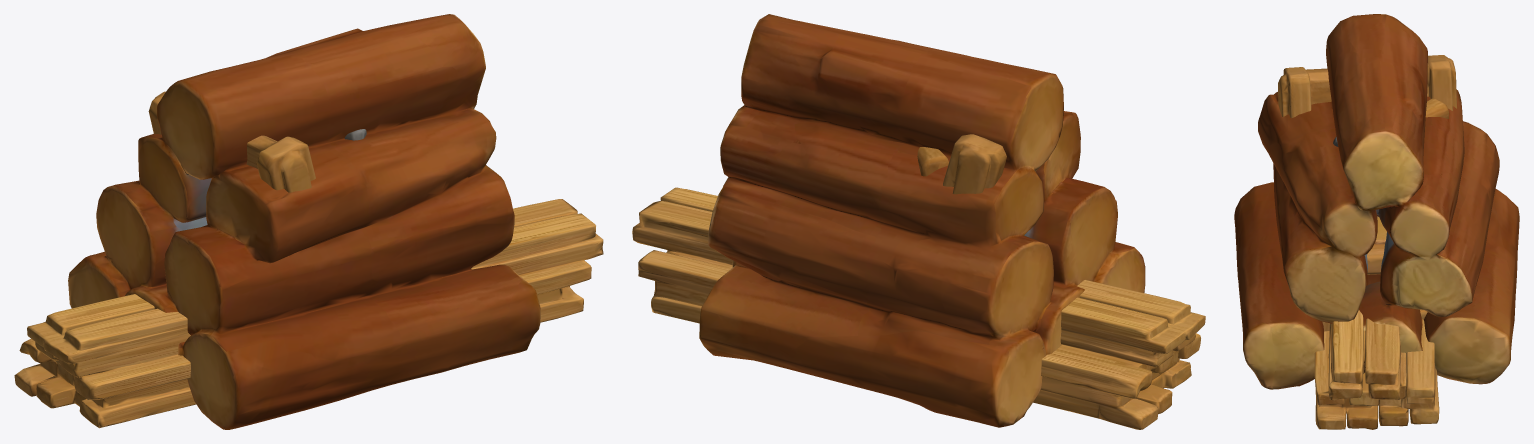
The model's file is bucheron.glb.
3 renders of one model, left to right at view 1: azimuth 30°, elevation 25°; view 2: azimuth 150°, elevation 25°; view 3: azimuth 270°, elevation 25°, orthographic. The views are drawn at different scales.
Parts seen in each view (by area): view 1: rondins-empiles, planches-empilees, chaise-a-reparer; view 2: rondins-empiles, planches-empilees, chaise-a-reparer, billot-et-hache; view 3: rondins-empiles, planches-empilees, chaise-a-reparer, billot-et-hache.
Boxes of the visible parts, box(x1,y1,x2,y2) form: rondins-empiles: box(68, 14, 540, 429); planches-empilees: box(14, 199, 603, 428); chaise-a-reparer: box(148, 91, 315, 192); rondins-empiles: box(699, 14, 1145, 427); planches-empilees: box(632, 187, 1205, 429); chaise-a-reparer: box(943, 134, 1006, 194); billot-et-hache: box(917, 147, 948, 176); rondins-empiles: box(1234, 14, 1519, 389); planches-empilees: box(1314, 310, 1439, 429); chaise-a-reparer: box(1278, 55, 1457, 331); billot-et-hache: box(1333, 98, 1449, 285).
Bounding box in the file's own units: 2 × 1.04 × 1.03.
1 material, 1 textured.
